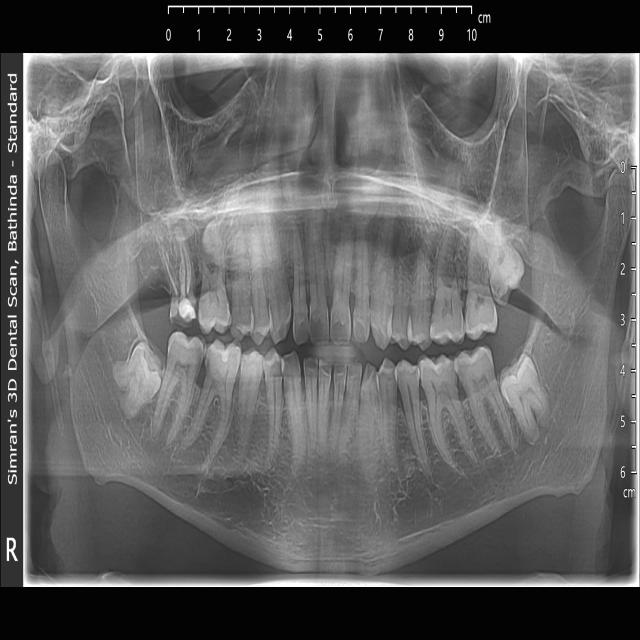Filling: (177, 295, 194, 323)
Mandibular Canal: (442, 312, 595, 519), (90, 343, 235, 493)
Root Canal Treatment: (162, 250, 180, 302), (183, 239, 191, 300), (180, 242, 186, 297)
impacted tooth: (500, 352, 550, 442), (115, 341, 163, 420), (489, 226, 525, 302)
maxillary sinus: (114, 59, 261, 222), (396, 58, 520, 231)
